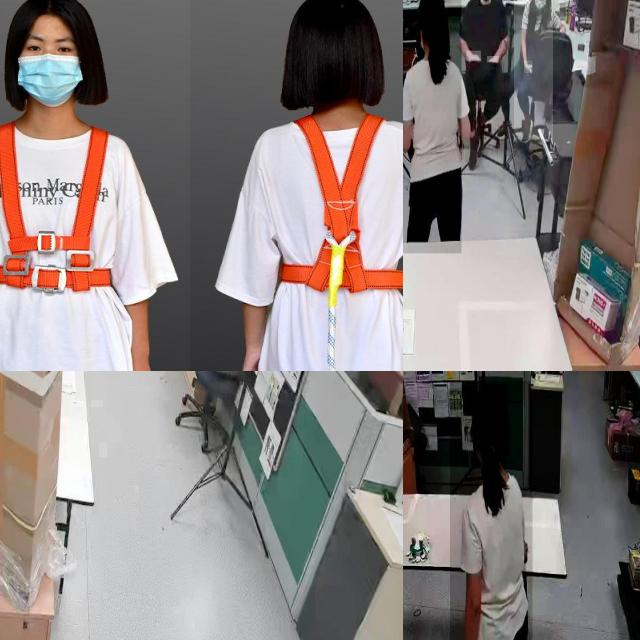Harness: (271, 112, 403, 371), (0, 124, 129, 371)
face_mask: (532, 0, 547, 12)
hand_noglove: (466, 51, 482, 62), (524, 60, 533, 74), (487, 56, 499, 63)
head_nohelmet: (471, 384, 509, 423), (417, 0, 444, 10)
person: (450, 381, 533, 640), (403, 0, 462, 254), (461, 0, 509, 151), (514, 0, 553, 140)
shoes: (465, 124, 483, 176)
